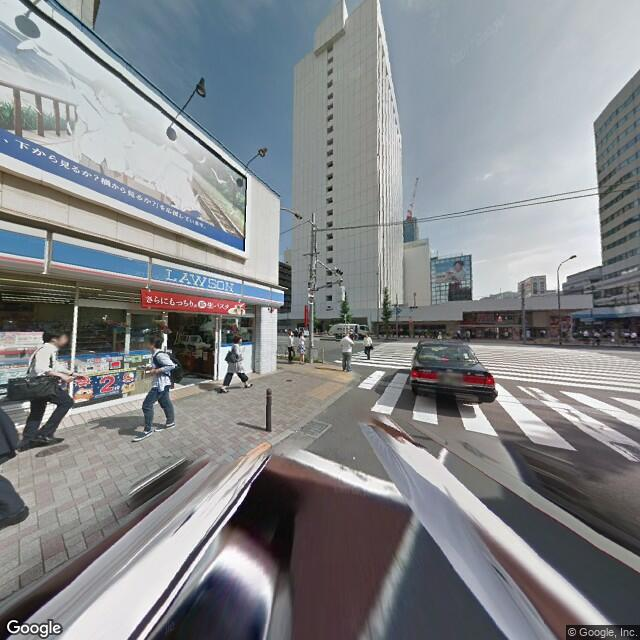lawson: (1, 221, 289, 307)
